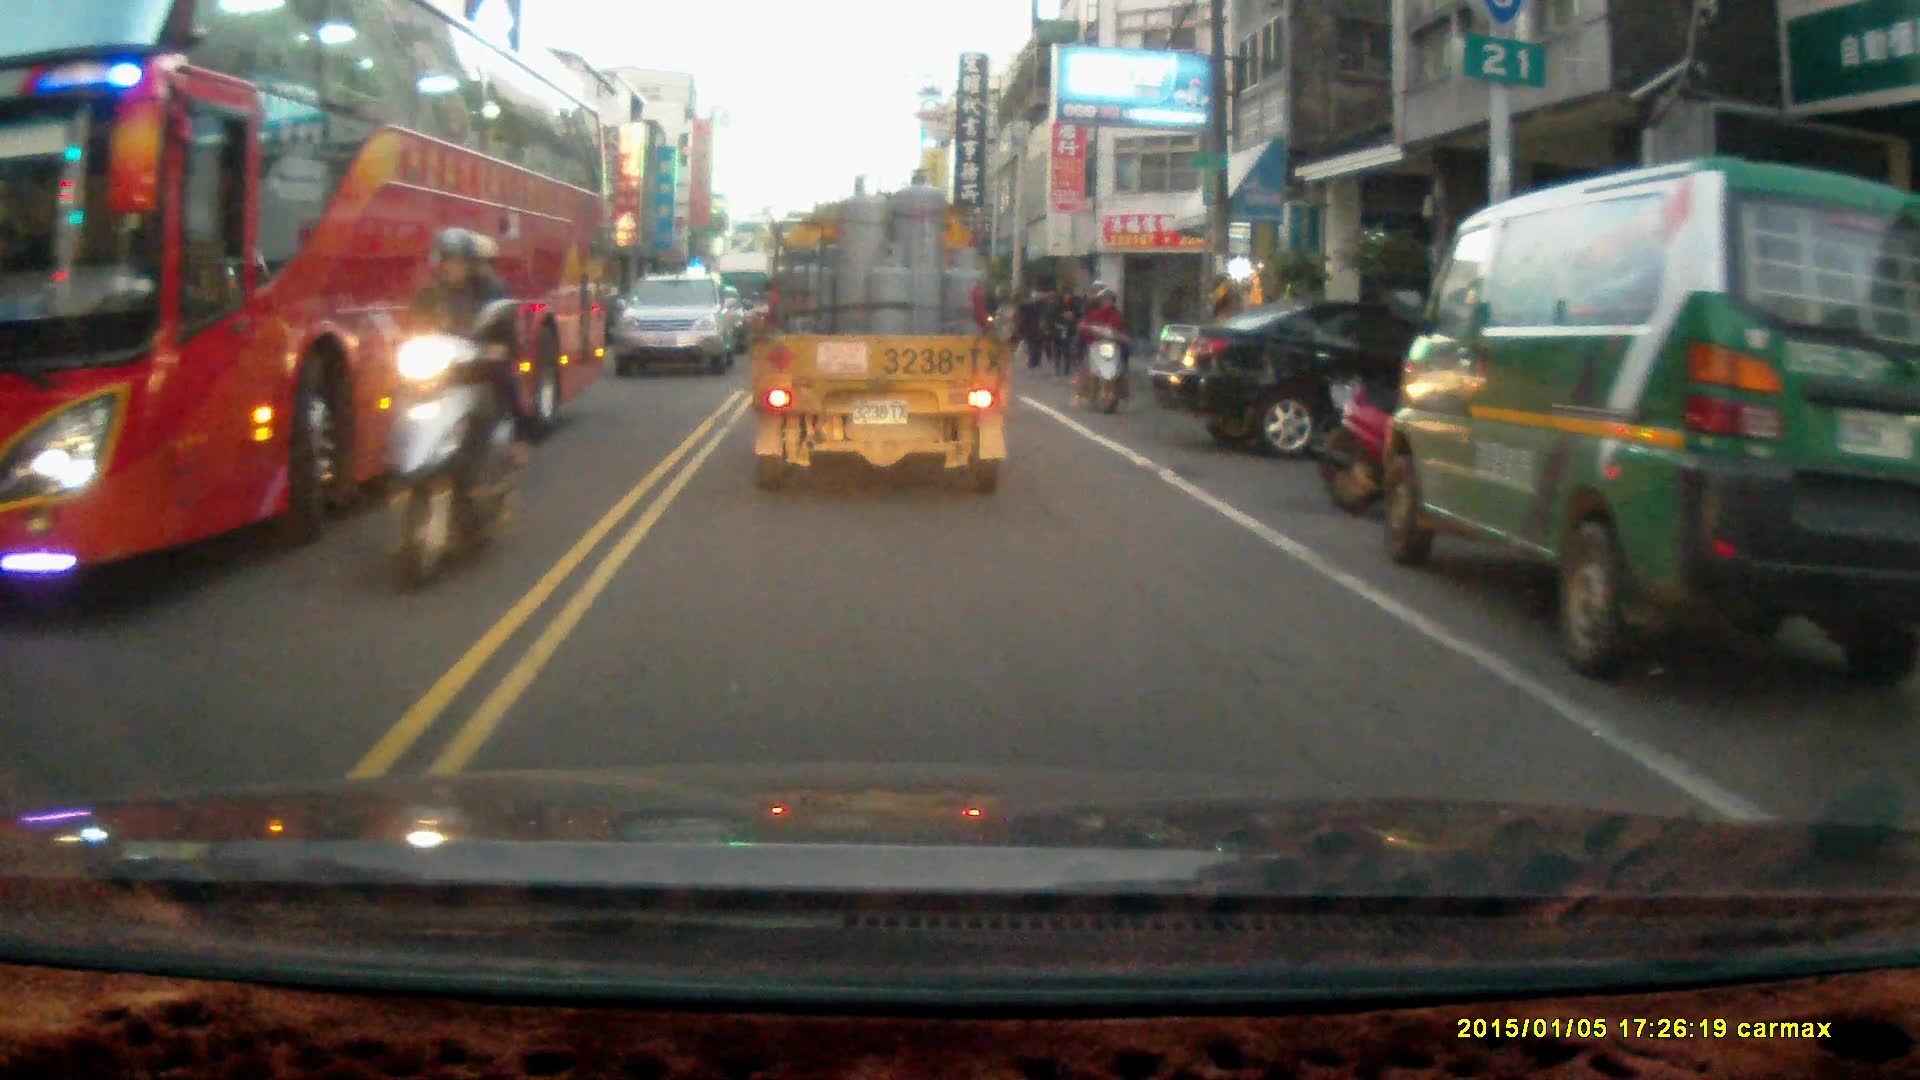pedestrian: (1049, 288, 1077, 381), (1019, 287, 1052, 367)
rider: (360, 225, 536, 594), (1077, 279, 1138, 418)
vehicle: (1, 7, 620, 581), (1390, 156, 1918, 683), (747, 168, 1013, 495), (1164, 297, 1438, 465), (612, 274, 739, 381)
